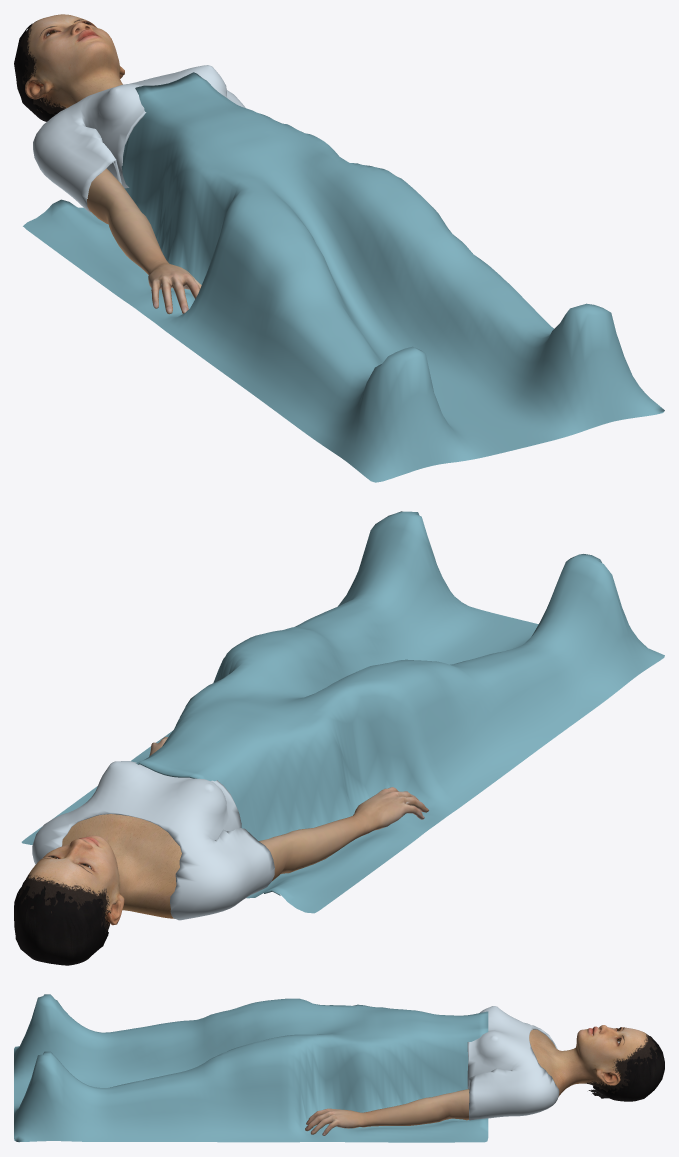
3 views of the same model, one above another, from view 1: azimuth 30°, elevation 25°; view 2: azimuth 150°, elevation 25°; view 3: azimuth 270°, elevation 25° (orthographic). The views are drawn at different scales.
Visible parts, largest first — view 1: sheet, gown, body, arms, hair; view 2: sheet, gown, body, hair, arms; view 3: sheet, gown, body, arms, hair.
Part boxes in pixels (x1,y1,x2,y2): sheet: [23, 72, 664, 482]; gown: [33, 65, 245, 216]; body: [19, 14, 124, 114]; arms: [87, 168, 201, 314]; hair: [14, 23, 58, 121]; sheet: [21, 511, 664, 913]; gown: [32, 761, 274, 920]; body: [18, 814, 181, 933]; hair: [14, 880, 108, 965]; arms: [149, 737, 428, 880]; sheet: [14, 994, 488, 1142]; gown: [467, 1006, 559, 1120]; body: [529, 1025, 657, 1096]; arms: [305, 1089, 469, 1135]; hair: [588, 1036, 664, 1101].
Bounding box in the file's own units: 0.6082 × 0.2239 × 1.74.
8 materials, 6 textured.
